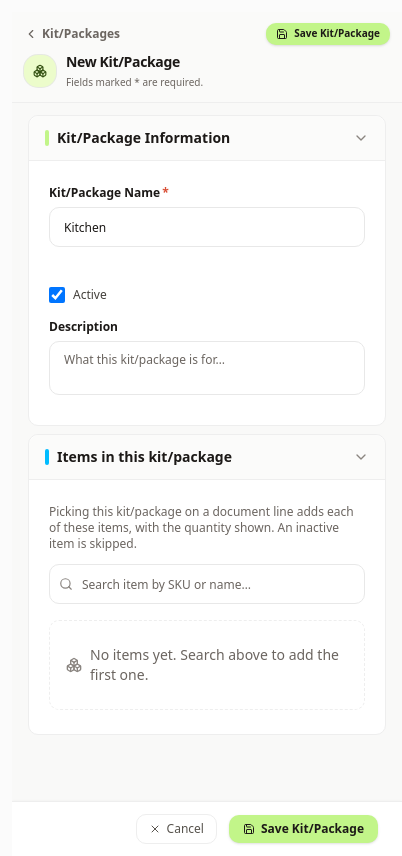
Test: AddKitPage › adds items with their quantities and saves the whole kit, then lands on the Kits tab
The width and height of the screenshot is (402, 856).
Type "Counter" into the field named "Search inventory item". click: (207, 584)
box: [49, 564, 365, 604]
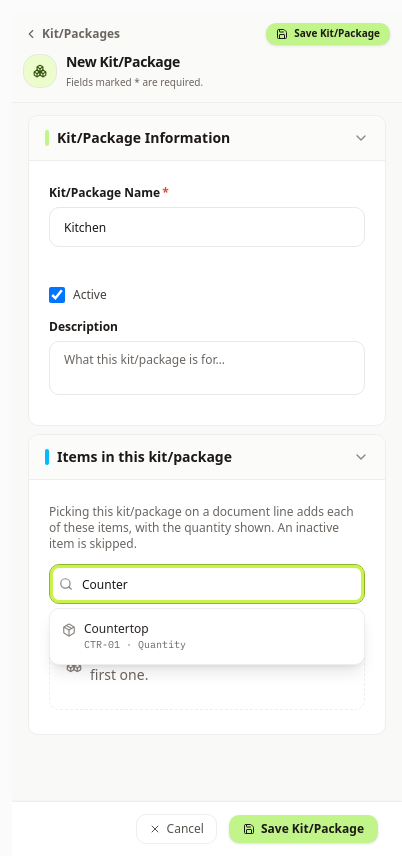
Click the button "Countertop CTR-01 · Quantity". click: (116, 629)
box: [50, 613, 364, 660]
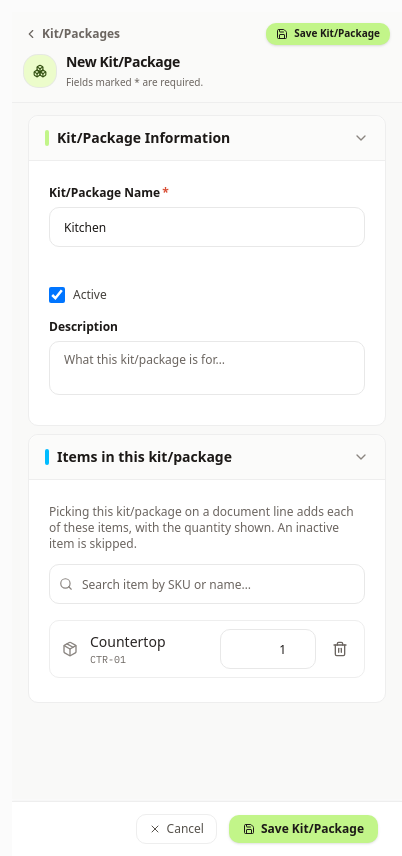
Replace the text in the number field named "Quantity of Countertop" with "2". click: (268, 649)
box: [220, 629, 316, 669]
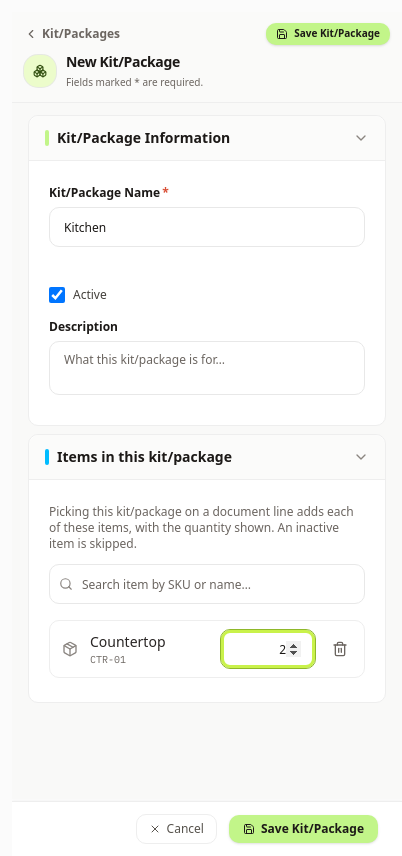
Click the 1st button "Save Kit/Package". click: (328, 34)
box: [266, 23, 390, 45]
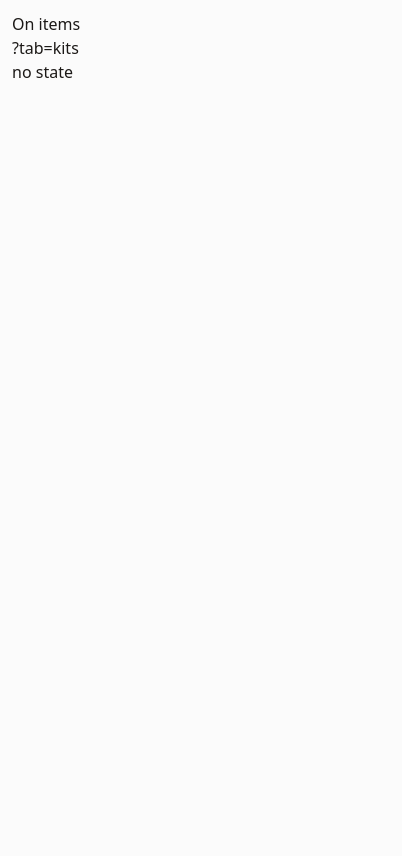
Check: the text "On items" is shown, box [12, 13, 80, 35]
Check: the text with test id "search" reads "?tab=kits", box [12, 37, 79, 59]
